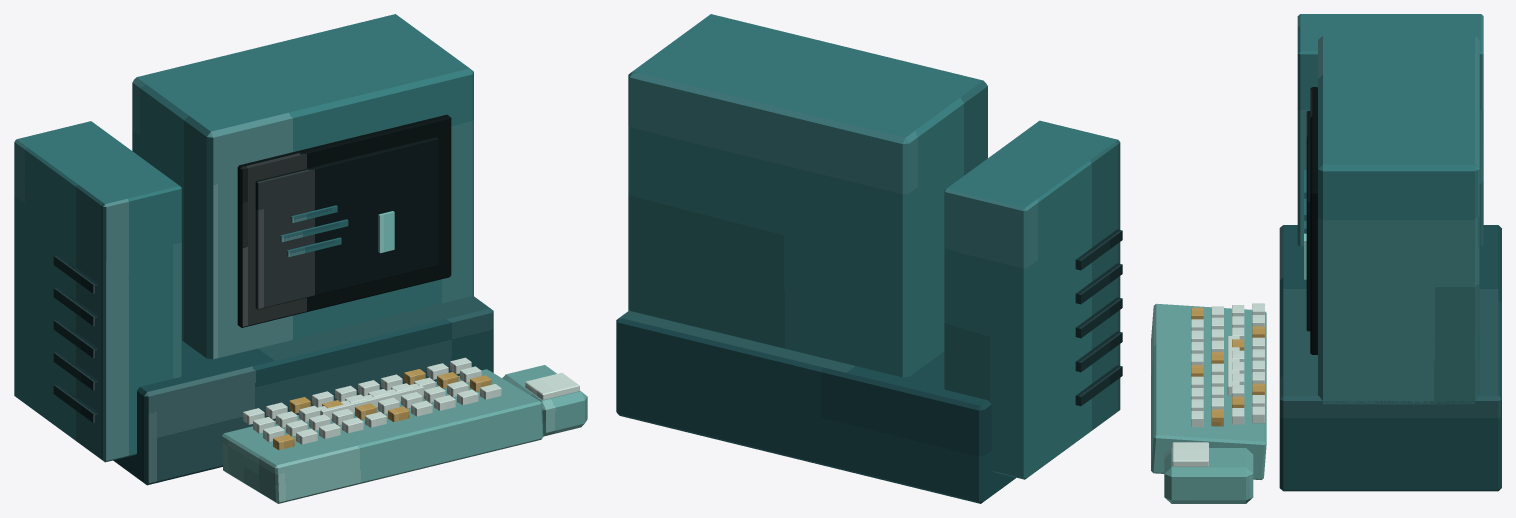
The model's file is retro_computer_compact_teal.glb.
3 views of the same model, side by side, from view 1: azimuth 30°, elevation 25°; view 2: azimuth 150°, elevation 25°; view 3: azimuth 270°, elevation 25° (orthographic). The views are drawn at different scales.
Visible parts, largest first — view 1: MonitorShell, SideExpansion, CompactBase, MonitorGlow, KeyboardBody, MonitorFace, Mouse, MouseButton, SpaceBar, ScreenGlyph_4, SideVent_1, SideVent_0 (+3 smaller); view 2: MonitorShell, SideExpansion, CompactBase, SideVent_3, SideVent_4, SideVent_0, SideVent_2, SideVent_1; view 3: MonitorShell, CompactBase, KeyboardBody, SideExpansion, Mouse, MonitorFace, MonitorGlow, MouseButton, SpaceBar.
Part boxes in pixels (bbox=[...]): MonitorShell: bbox=[132, 14, 473, 359]; SideExpansion: bbox=[14, 121, 181, 462]; CompactBase: bbox=[113, 295, 493, 485]; MonitorGlow: bbox=[255, 137, 438, 309]; KeyboardBody: bbox=[222, 369, 543, 503]; MonitorFace: bbox=[237, 114, 451, 327]; Mouse: bbox=[502, 365, 587, 436]; MouseButton: bbox=[525, 373, 579, 399]; SpaceBar: bbox=[318, 383, 423, 418]; ScreenGlyph_4: bbox=[378, 211, 394, 253]; SideVent_1: bbox=[53, 351, 98, 390]; SideVent_0: bbox=[53, 384, 98, 422]; MonitorShell: bbox=[628, 14, 987, 377]; SideExpansion: bbox=[944, 120, 1120, 479]; CompactBase: bbox=[616, 310, 1016, 503]; SideVent_3: bbox=[1075, 263, 1122, 304]; SideVent_4: bbox=[1075, 229, 1122, 270]; SideVent_0: bbox=[1075, 365, 1122, 406]; SideVent_2: bbox=[1075, 297, 1122, 338]; SideVent_1: bbox=[1075, 331, 1122, 372]; MonitorShell: bbox=[1318, 35, 1479, 404]; CompactBase: bbox=[1279, 225, 1501, 491]; KeyboardBody: bbox=[1151, 303, 1266, 479]; SideExpansion: bbox=[1297, 14, 1483, 246]; Mouse: bbox=[1164, 448, 1253, 503]; MonitorFace: bbox=[1310, 87, 1317, 354]; MonitorGlow: bbox=[1306, 111, 1310, 331]; MouseButton: bbox=[1172, 442, 1208, 466]; SpaceBar: bbox=[1227, 336, 1239, 395].
Bounding box in the file's own units: 1.25 × 0.89 × 0.8679.
1 material, 1 textured.
